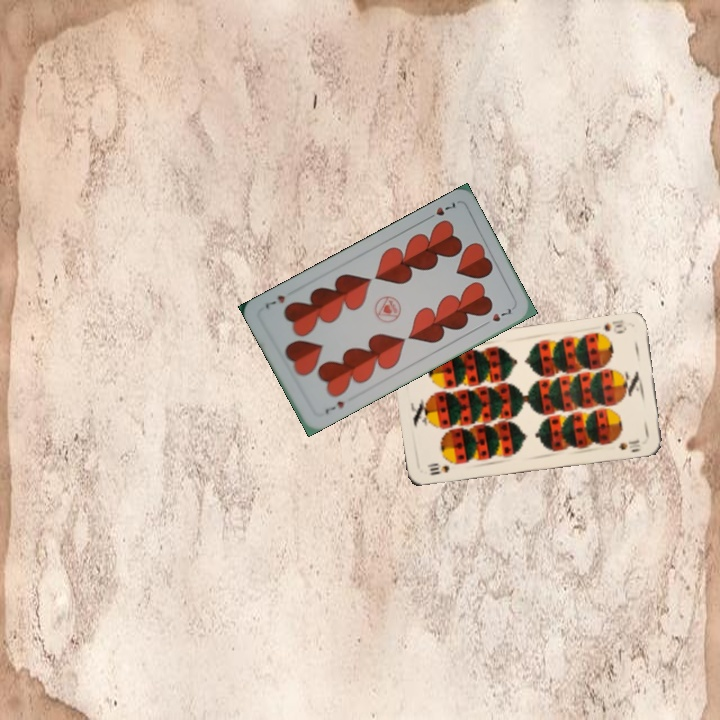H7: (422, 197, 460, 223), (321, 397, 347, 416)
S10: (600, 316, 629, 335), (423, 460, 452, 478)
